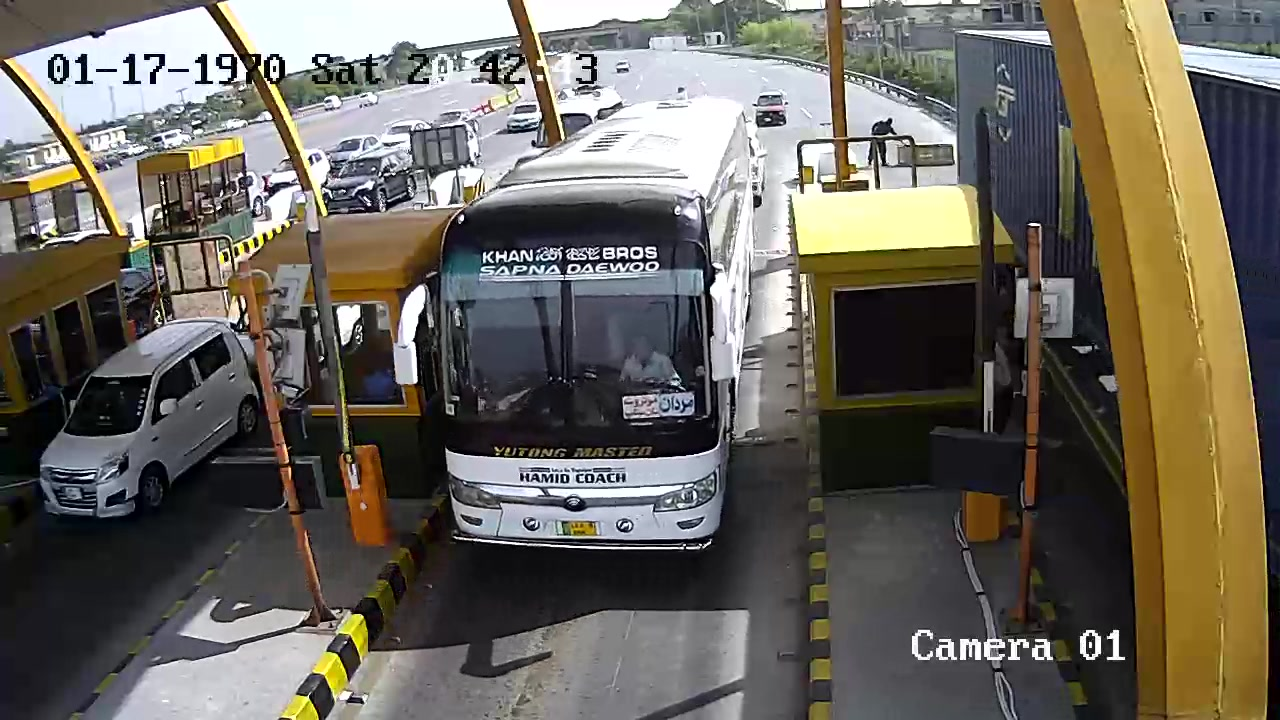F4: (436, 96, 761, 570)
